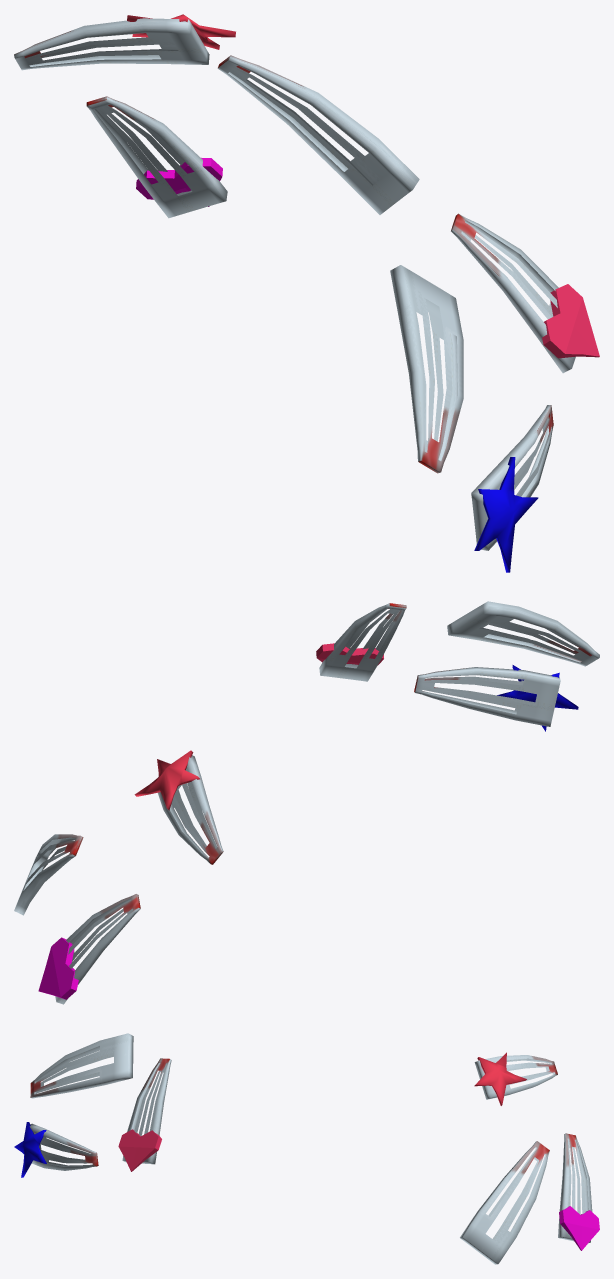
3 renders of one model, top to bottom at view 1: azimuth 30°, elevation 25°; view 2: azimuth 150°, elevation 25°; view 3: azimuth 270°, elevation 25°, orthographic. The views are drawn at different scales.
Parts seen in each view (by area): view 1: Eh; view 2: Eh; view 3: Eh.
Part boxes in pixels (<box>): Eh: <box>14,14,599,572</box>; Eh: <box>14,601,599,1004</box>; Eh: <box>14,1033,599,1264</box>.
Size of the model in its own units: 0.7322 by 0.537 by 1.72.
Materials: 10 (6 with a texture image).
